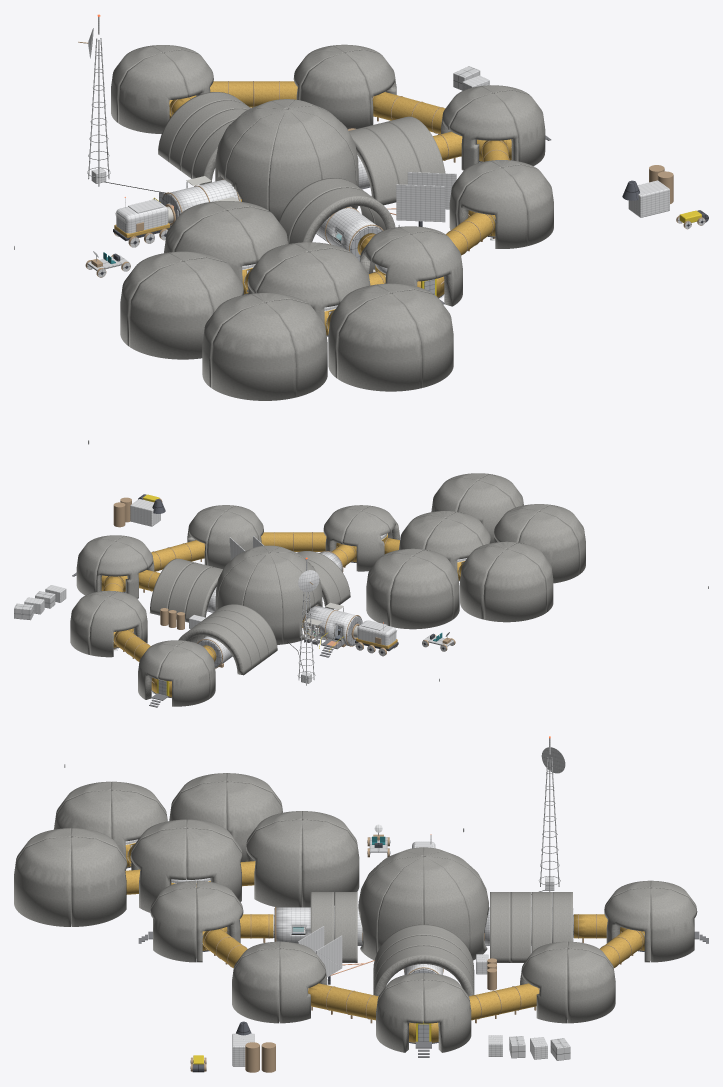
Rendered from habitat.glb.
3 renders of one model, top to bottom at view 1: azimuth 30°, elevation 25°; view 2: azimuth 150°, elevation 25°; view 3: azimuth 270°, elevation 25°, orthographic. The views are drawn at different scales.
Visible parts, largest first — view 1: S5SQ3__CrewQuarters3_Dome_Segment_3of4, S5SQ4__CrewQuarters4_Dome_Segment_3of4, S5SQ2__CrewQuarters2_Dome_Segment_3of4, S5N_Command_Comms_Dome_Segment_3of4, S5R_Recreation_Commons_Dome_Segment_3of4, S5G_CrewSupport_Hygiene2_Dome_Segment_3of4, S05_CoreDome_PrintedRegolith_Segment_6of8, S04_CoreDome_PrintedRegolith_Segment_5of8, S5SQ4__CrewQuarters4_Dome_Segment_4of4, S5SQ3__CrewQuarters3_Dome_Segment_4of4, S5E_Maintenance_Robotics_Dome_Segment_3of4, S5SQ1__CrewQuarters1_Dome_Segment_3of4 (+41 smaller); view 2: S5SQ1__CrewQuarters1_Dome_Segment_2of4, S5SQ2__CrewQuarters2_Dome_Segment_2of4, S5SQ3__CrewQuarters3_Dome_Segment_2of4, S5N_Command_Comms_Dome_Segment_2of4, S02_CoreDome_PrintedRegolith_Segment_3of8, S03_CoreDome_PrintedRegolith_Segment_4of8, S5R_Recreation_Commons_Dome_Segment_2of4, S5SQ2__CrewQuarters2_Dome_Segment_1of4, S5G_CrewSupport_Hygiene2_Dome_Segment_2of4, S5SQ1__CrewQuarters1_Dome_Segment_1of4, S5H_Medical_StormShelter_Dome_Segment_2of4, S5SQ4__CrewQuarters4_Dome_Segment_2of4 (+39 smaller); view 3: S5SQ4__CrewQuarters4_Dome_Segment_4of4, S5SQ4__CrewQuarters4_Dome_Segment_1of4, S5SQ1__CrewQuarters1_Dome_Segment_4of4, S5SQ1__CrewQuarters1_Dome_Segment_1of4, S5G_CrewSupport_Hygiene2_Dome_Segment_4of4, S5K_CrewQuarters_Vestibule_Dome_Segment_4of4, S5R_Recreation_Commons_Dome_Segment_1of4, S5N_Command_Comms_Dome_Segment_1of4, S5H_Medical_StormShelter_Dome_Segment_4of4, S5K_CrewQuarters_Vestibule_Dome_Segment_1of4, S5E_Maintenance_Robotics_Dome_Segment_1of4, S00_CoreDome_PrintedRegolith_Segment_1of8 (+30 smaller).
Boxes of the visible parts, <box> form: S5SQ3__CrewQuarters3_Dome_Segment_3of4: <box>211,302,296,400</box>; S5SQ4__CrewQuarters4_Dome_Segment_3of4: <box>337,293,421,391</box>; S5SQ2__CrewQuarters2_Dome_Segment_3of4: <box>129,261,212,359</box>; S5N_Command_Comms_Dome_Segment_3of4: <box>118,52,188,133</box>; S5R_Recreation_Commons_Dome_Segment_3of4: <box>299,52,370,129</box>; S5G_CrewSupport_Hygiene2_Dome_Segment_3of4: <box>457,168,527,248</box>; S05_CoreDome_PrintedRegolith_Segment_6of8: <box>268,109,321,221</box>; S04_CoreDome_PrintedRegolith_Segment_5of8: <box>225,109,286,210</box>; S5SQ4__CrewQuarters4_Dome_Segment_4of4: <box>392,289,453,387</box>; S5SQ3__CrewQuarters3_Dome_Segment_4of4: <box>266,299,327,397</box>; S5E_Maintenance_Robotics_Dome_Segment_3of4: <box>449,93,518,170</box>; S5SQ1__CrewQuarters1_Dome_Segment_3of4: <box>174,210,256,282</box>; S5SQ1__CrewQuarters1_Dome_Segment_2of4: <box>390,556,453,629</box>; S5SQ2__CrewQuarters2_Dome_Segment_2of4: <box>483,549,546,622</box>; S5SQ3__CrewQuarters3_Dome_Segment_2of4: <box>518,511,579,583</box>; S5N_Command_Comms_Dome_Segment_2of4: <box>158,646,210,706</box>; S02_CoreDome_PrintedRegolith_Segment_3of8: <box>243,553,282,644</box>; S03_CoreDome_PrintedRegolith_Segment_4of8: <box>269,553,314,644</box>; S5R_Recreation_Commons_Dome_Segment_2of4: <box>89,596,142,657</box>; S5SQ2__CrewQuarters2_Dome_Segment_1of4: <box>460,546,505,619</box>; S5G_CrewSupport_Hygiene2_Dome_Segment_2of4: <box>207,511,258,568</box>; S5SQ1__CrewQuarters1_Dome_Segment_1of4: <box>366,553,411,625</box>; S5H_Medical_StormShelter_Dome_Segment_2of4: <box>342,511,390,571</box>; S5SQ4__CrewQuarters4_Dome_Segment_2of4: <box>457,480,515,543</box>; S5SQ4__CrewQuarters4_Dome_Segment_4of4: <box>14,836,71,926</box>; S5SQ4__CrewQuarters4_Dome_Segment_1of4: <box>71,836,127,926</box>; S5SQ1__CrewQuarters1_Dome_Segment_4of4: <box>246,819,301,907</box>; S5SQ1__CrewQuarters1_Dome_Segment_1of4: <box>302,819,359,907</box>; S5G_CrewSupport_Hygiene2_Dome_Segment_4of4: <box>232,948,279,1023</box>; S5K_CrewQuarters_Vestibule_Dome_Segment_4of4: <box>130,828,186,912</box>; S5R_Recreation_Commons_Dome_Segment_1of4: <box>568,948,615,1023</box>; S5N_Command_Comms_Dome_Segment_1of4: <box>650,888,697,962</box>; S5H_Medical_StormShelter_Dome_Segment_4of4: <box>150,887,196,962</box>; S5K_CrewQuarters_Vestibule_Dome_Segment_1of4: <box>186,828,242,902</box>; S5E_Maintenance_Robotics_Dome_Segment_1of4: <box>423,980,471,1052</box>; S00_CoreDome_PrintedRegolith_Segment_1of8: <box>423,856,469,951</box>.
Size of the model in its own units: 81.1 by 18.99 by 77.18.
Materials: 51 (31 with a texture image).
